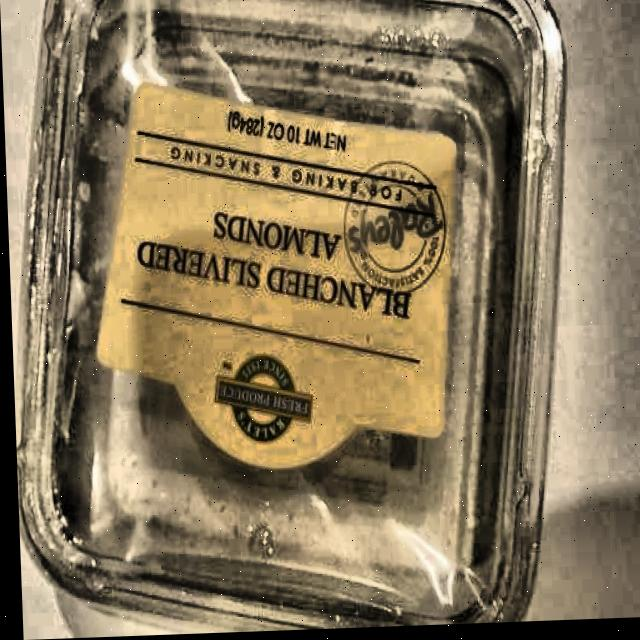plastic: (0, 0, 588, 640)
